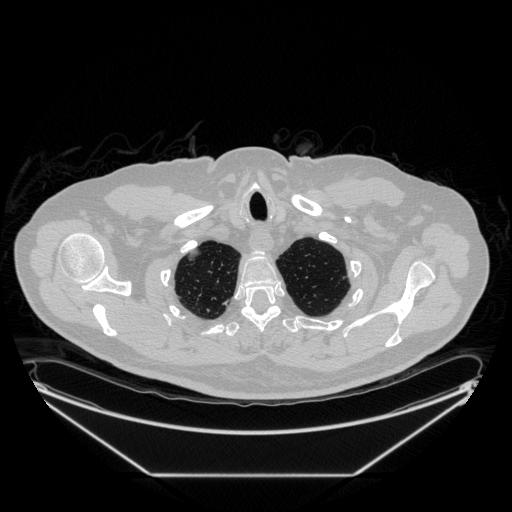nodule: (188, 247, 202, 261)
